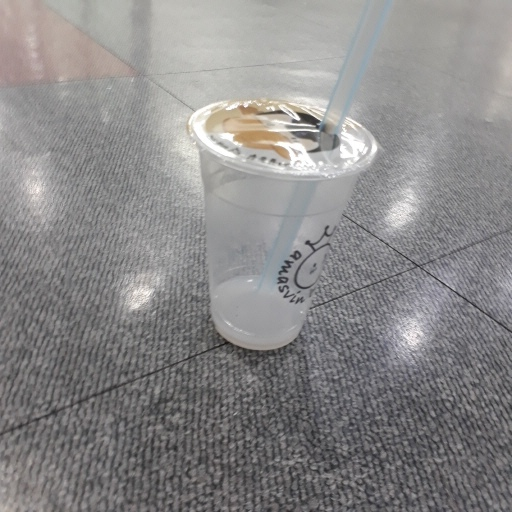Plastic_2: (186, 1, 391, 358)
